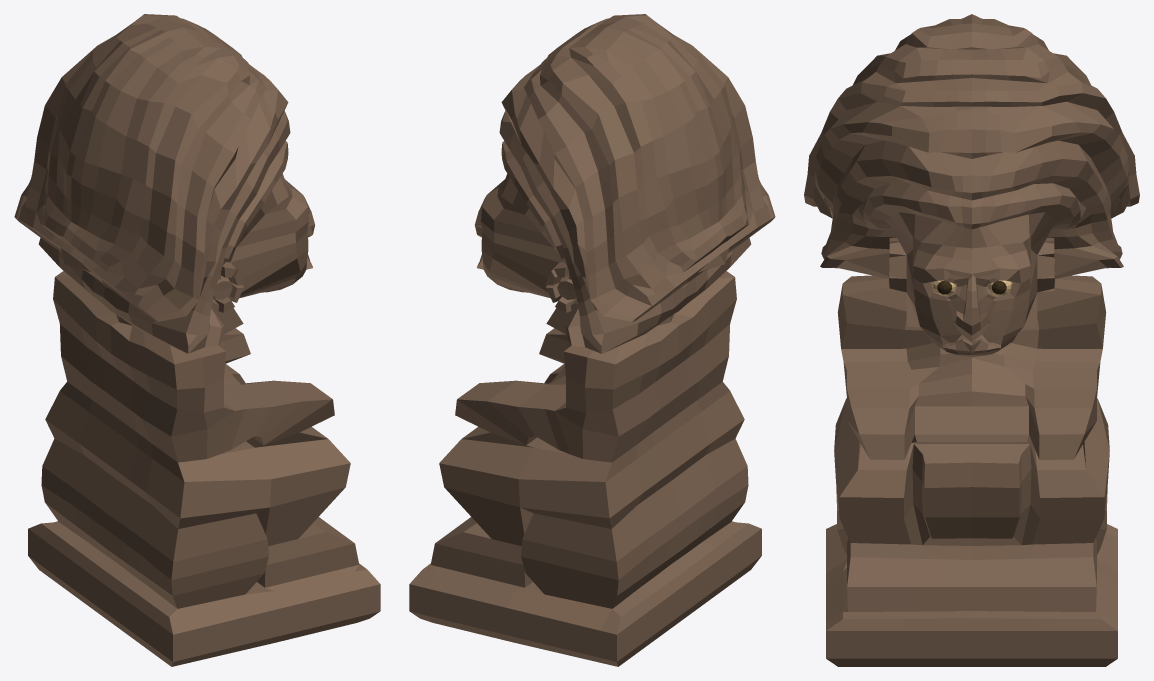
File: actek_try01.fbx
The picture shows the model from 3 angles, left to right: view 1: azimuth 30°, elevation 25°; view 2: azimuth 150°, elevation 25°; view 3: azimuth 270°, elevation 25°; orthographic projection.
Visible parts, largest first — view 1: FIGUR_FINAL; view 2: FIGUR_FINAL; view 3: FIGUR_FINAL.
Boxes of the visible parts, box(x1,y1,x2,y2) form: FIGUR_FINAL: box(14, 14, 380, 666); FIGUR_FINAL: box(409, 14, 775, 666); FIGUR_FINAL: box(804, 14, 1139, 666).
Size of the model in its own units: 173 by 380 by 201.
